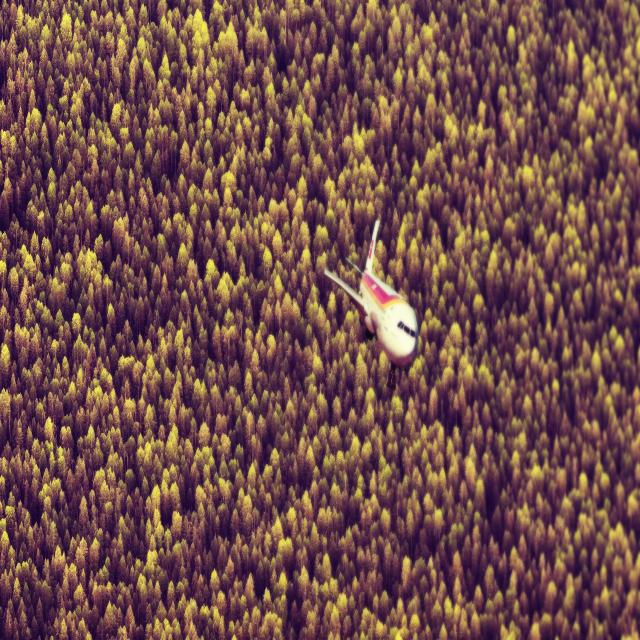airplane: (323, 217, 419, 385)
